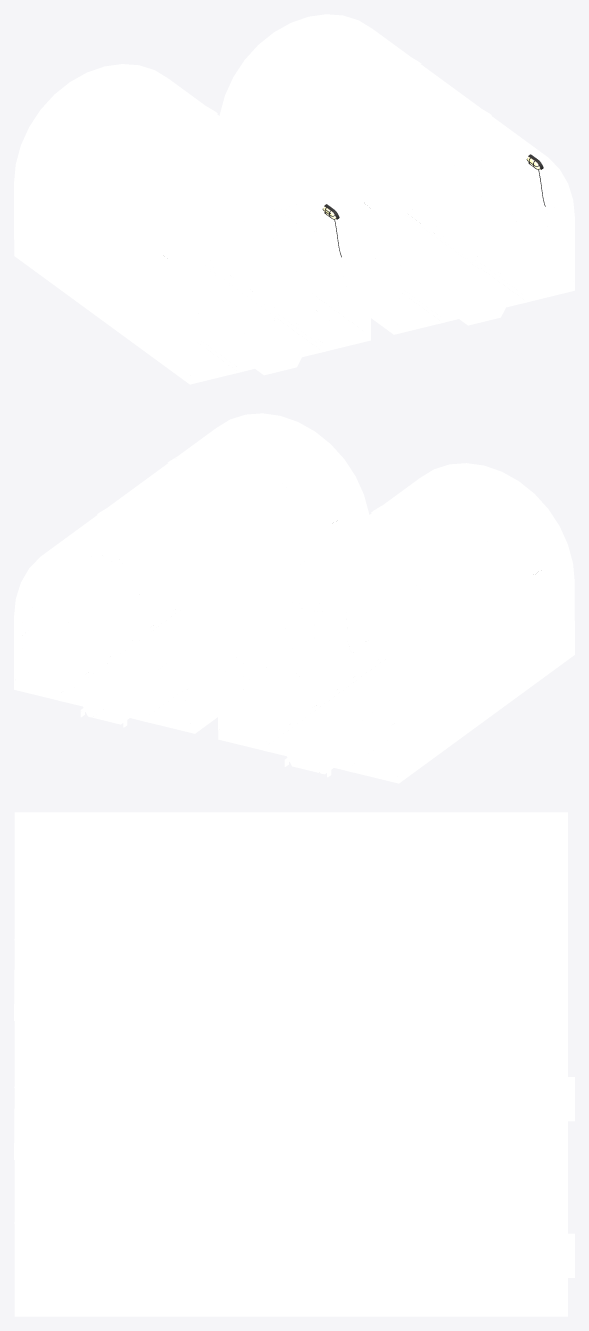
The model's file is Train_Tunnel_Middle_01.fbx.
3 views of the same model, one above another, from view 1: azimuth 30°, elevation 25°; view 2: azimuth 150°, elevation 25°; view 3: azimuth 270°, elevation 25° (orthographic). The views are drawn at different scales.
Visible parts, largest first — view 1: Train_Tunnel_Middle_01; view 2: Train_Tunnel_Middle_01; view 3: Train_Tunnel_Middle_01.
Part boxes in pixels (x1=…): Train_Tunnel_Middle_01: x1=14, y1=14, x2=574, y2=384; Train_Tunnel_Middle_01: x1=14, y1=413, x2=574, y2=783; Train_Tunnel_Middle_01: x1=14, y1=812, x2=574, y2=1316.
Bounding box in the file's own units: 1264 × 553 × 1013.
